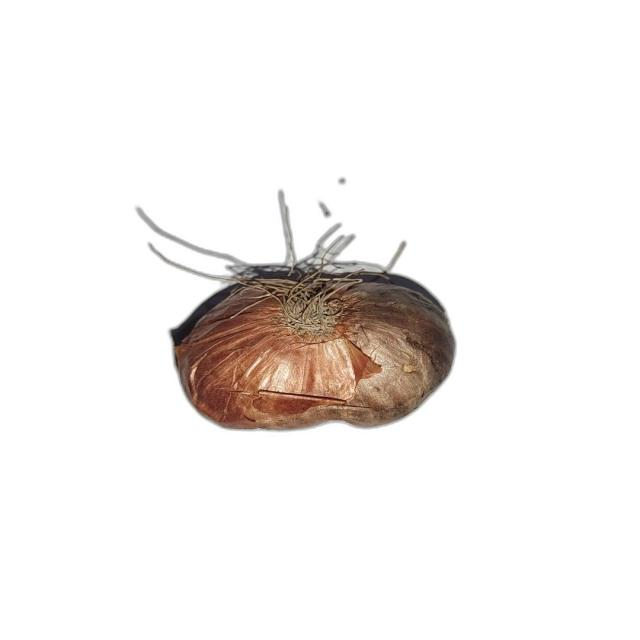onion: (144, 197, 460, 436)
